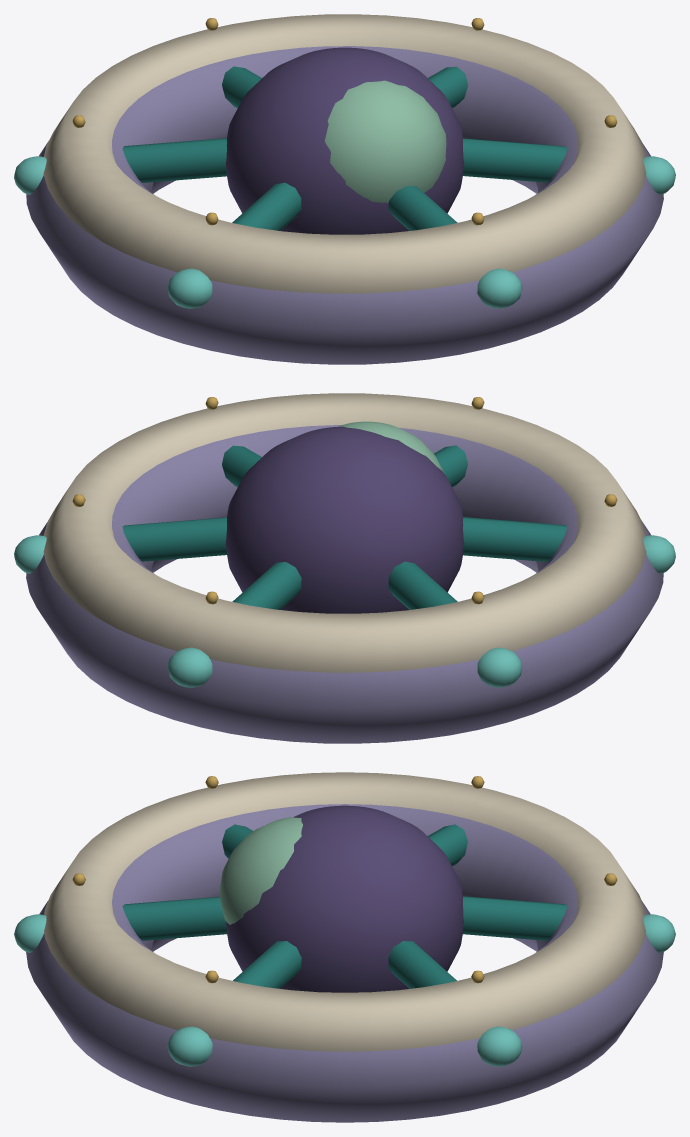
Rendered from alien-carrier.glb.
The picture shows the model from 3 angles, top to bottom: view 1: azimuth 30°, elevation 25°; view 2: azimuth 150°, elevation 25°; view 3: azimuth 270°, elevation 25°; orthographic projection.
Parts seen in each view (by area): view 1: shell, emission; view 2: shell, emission; view 3: shell, emission.
Boxes of the visible parts, x1,y1,x2,y2 form: shell: (26, 14, 663, 364); emission: (14, 156, 675, 308); shell: (26, 393, 663, 743); emission: (14, 535, 675, 687); shell: (26, 772, 663, 1122); emission: (14, 914, 675, 1066).
Bounding box in the file's own units: 2.64 × 0.9751 × 2.74.
